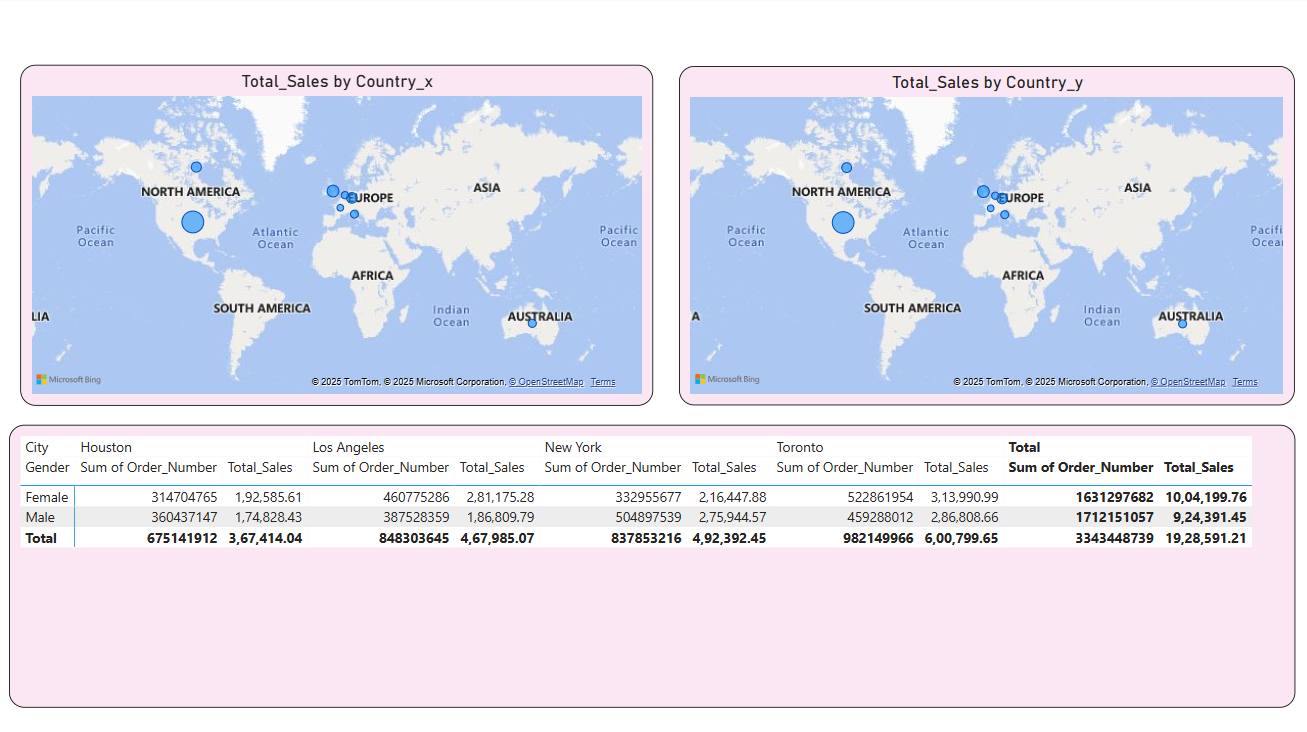

The page's visual inventory and layout, read from the dashboard file:
{"tool":"powerbi","page":{"name":"Page 3","canvas":[1280,720],"ordinal":2},"visuals":[{"type":"pivotTable","fields":{"Rows":["cleaned_merged_table.Gender"],"Values":["Sum(cleaned_merged_table.Order_Number)","cleaned_merged_table.Total_Sales"],"Columns":["cleaned_merged_table.City"]},"box":[9.6,419.9,1258.3,277.2],"z":0},{"type":"map","fields":{"Size":["cleaned_merged_table.Total_Sales"],"Category":["cleaned_merged_table.Country_y"]},"box":[665.5,68.6,602.4,332.1],"z":1000},{"type":"map","fields":{"Size":["cleaned_merged_table.Total_Sales"],"Category":["cleaned_merged_table.Country_x"]},"box":[20.6,67.2,618.9,333.4],"z":2000}]}

Visuals, with their boxes in screenshot pixels (x1, y1, x2, y2), scaled from the page's 1280x720 canvas onto the 1307x732 screenshot:
pivotTable - cleaned_merged_table.Gender x Sum(cleaned_merged_table.Order_Number): l=10, t=427, r=1295, b=709
map - cleaned_merged_table.Total_Sales x cleaned_merged_table.Country_y: l=680, t=70, r=1295, b=407
map - cleaned_merged_table.Total_Sales x cleaned_merged_table.Country_x: l=21, t=68, r=653, b=407
